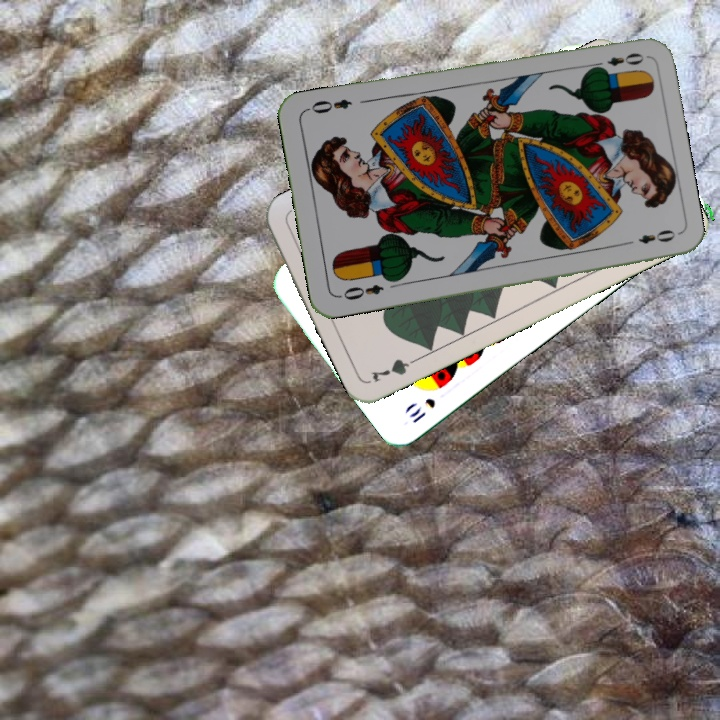EO: (588, 49, 647, 73), (334, 280, 386, 303)
G7: (366, 352, 424, 385)
S10: (405, 394, 438, 426)
